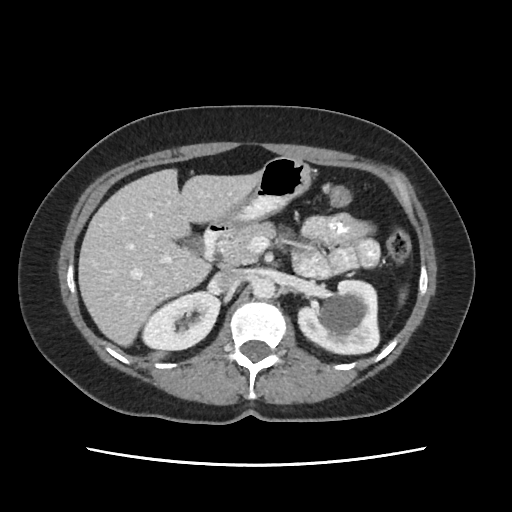Lesion: (313, 291, 371, 339)
